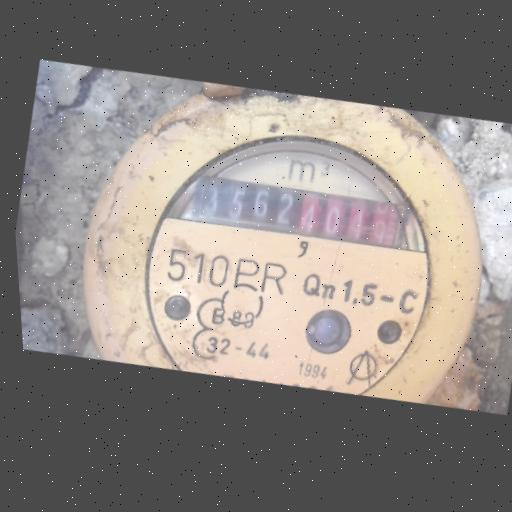0: (318, 194, 348, 241)
2: (270, 186, 299, 228)
3: (196, 176, 227, 220)
4: (294, 189, 325, 236), (341, 196, 371, 243)
5: (222, 178, 252, 223)
6: (247, 183, 274, 225)
8: (366, 200, 394, 247)
border_water_meter_number: (187, 158, 415, 265)
